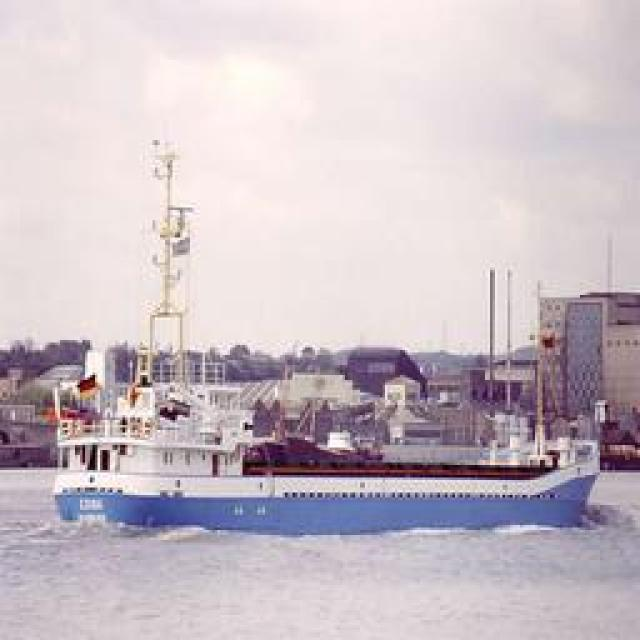ship2: (53, 139, 602, 537)
